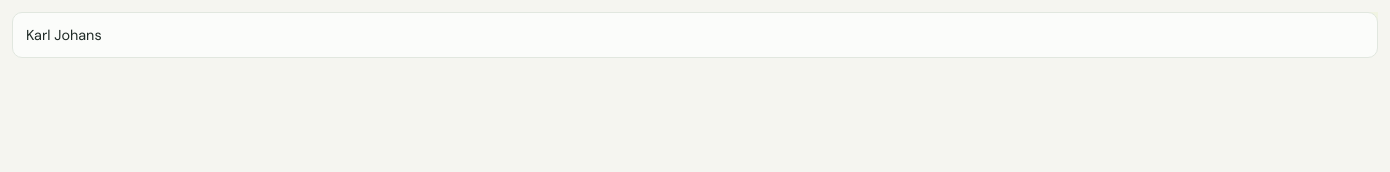
Test: AddressAutocomplete › requests and selects a formatted address from Kartverket
The image size is (1390, 172).
Click the field with placeholder "Skriv gate eller sted, f.eks. Karl Johans gate". click: (695, 35)
box: [12,12,1378,58]
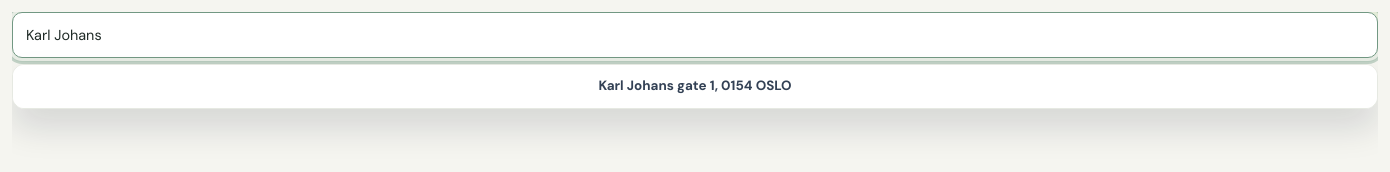
Click the button "Karl Johans gate 1, 0154 OSLO". click: (695, 86)
box: [13,65,1377,108]
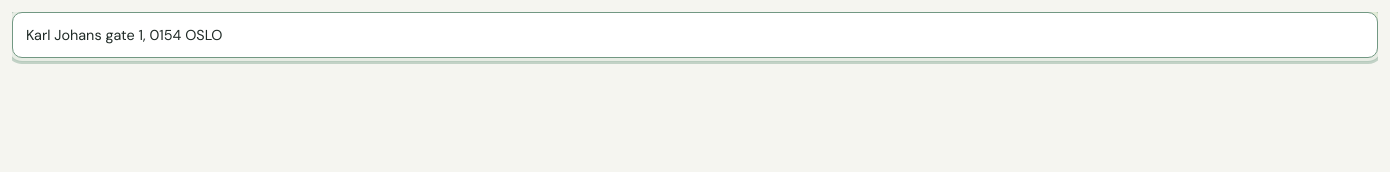
Now the field with placeholder "Skriv gate eller sted, f.eks. Karl Johans gate" holds "Karl Johans gate 1, 0154 OSLO", box [12,12,1378,58]
